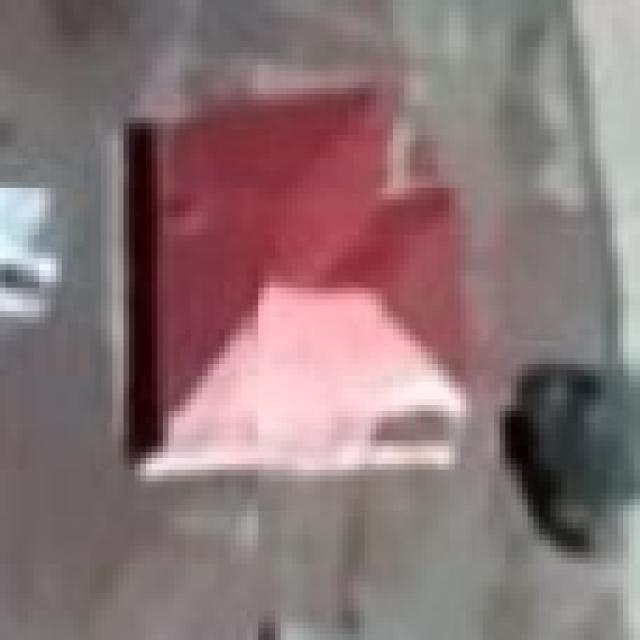Batiment: (133, 88, 465, 468)
